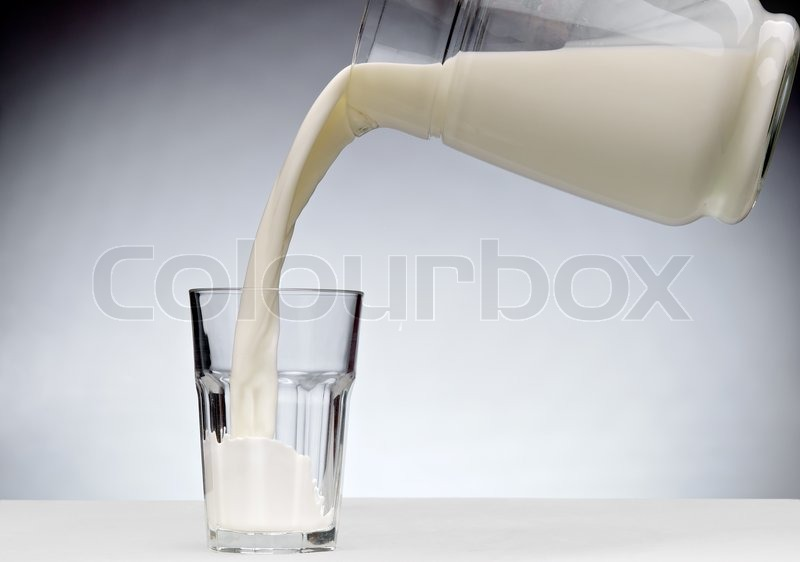glass of milk: (347, 1, 789, 229), (188, 285, 353, 546)
